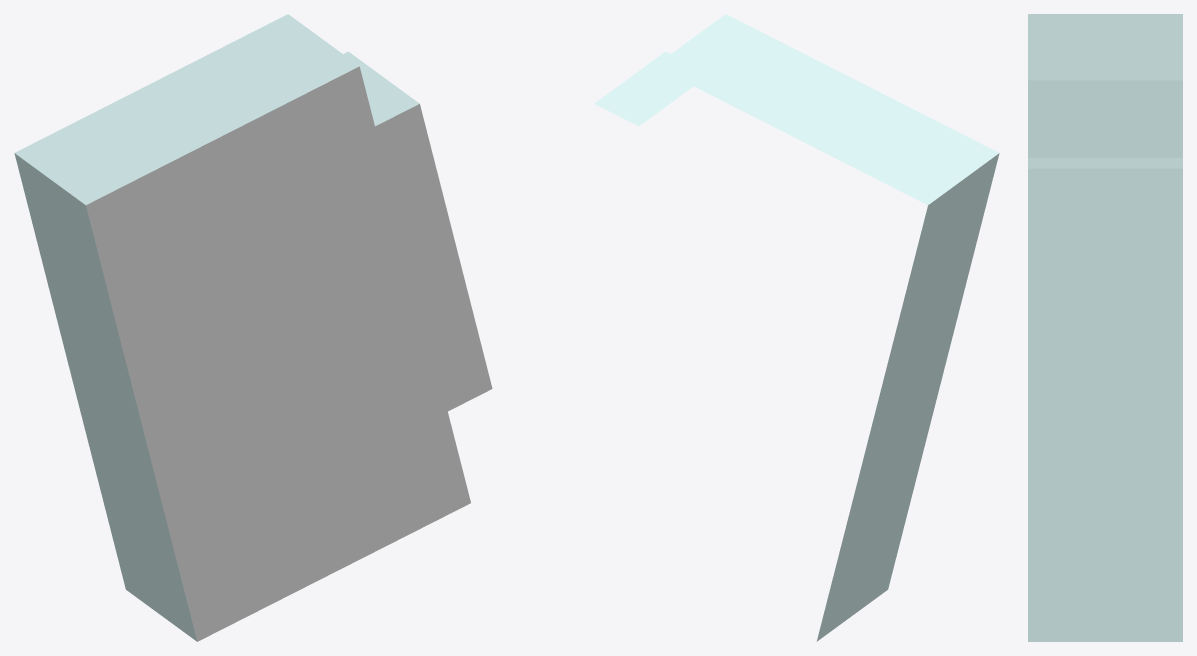
3 views of the same model, side by side, from view 1: azimuth 30°, elevation 25°; view 2: azimuth 150°, elevation 25°; view 3: azimuth 270°, elevation 25° (orthographic). The views are drawn at different scales.
Parts seen in each view (by area): view 1: 0_3_2_2_2_1_1_1_0; view 2: 0_3_2_2_2_1_1_1_0; view 3: 0_3_2_2_2_1_1_1_0.
Boxes of the visible parts, box(x1,y1,x2,y2) form: 0_3_2_2_2_1_1_1_0: box(14, 14, 492, 641); 0_3_2_2_2_1_1_1_0: box(594, 14, 999, 641); 0_3_2_2_2_1_1_1_0: box(1028, 14, 1182, 641).
Size of the model in its own units: 9.85 by 12.41 by 3.
